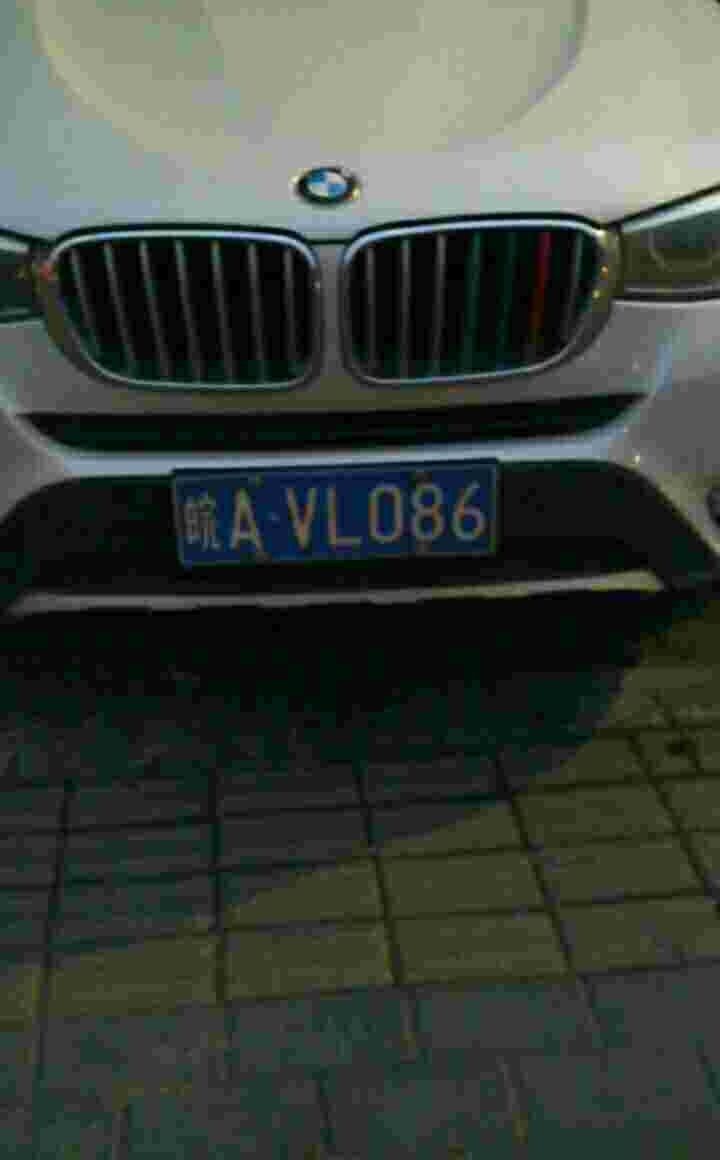license_plate: (170, 459, 496, 573)
